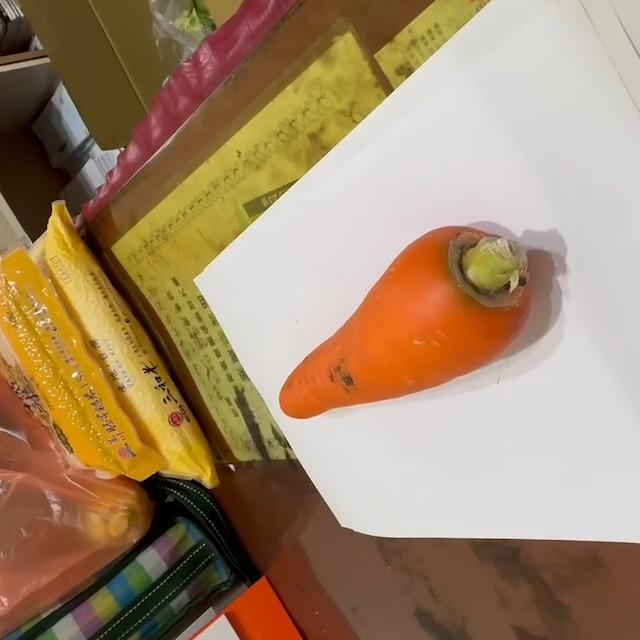carrot: (277, 221, 541, 424)
